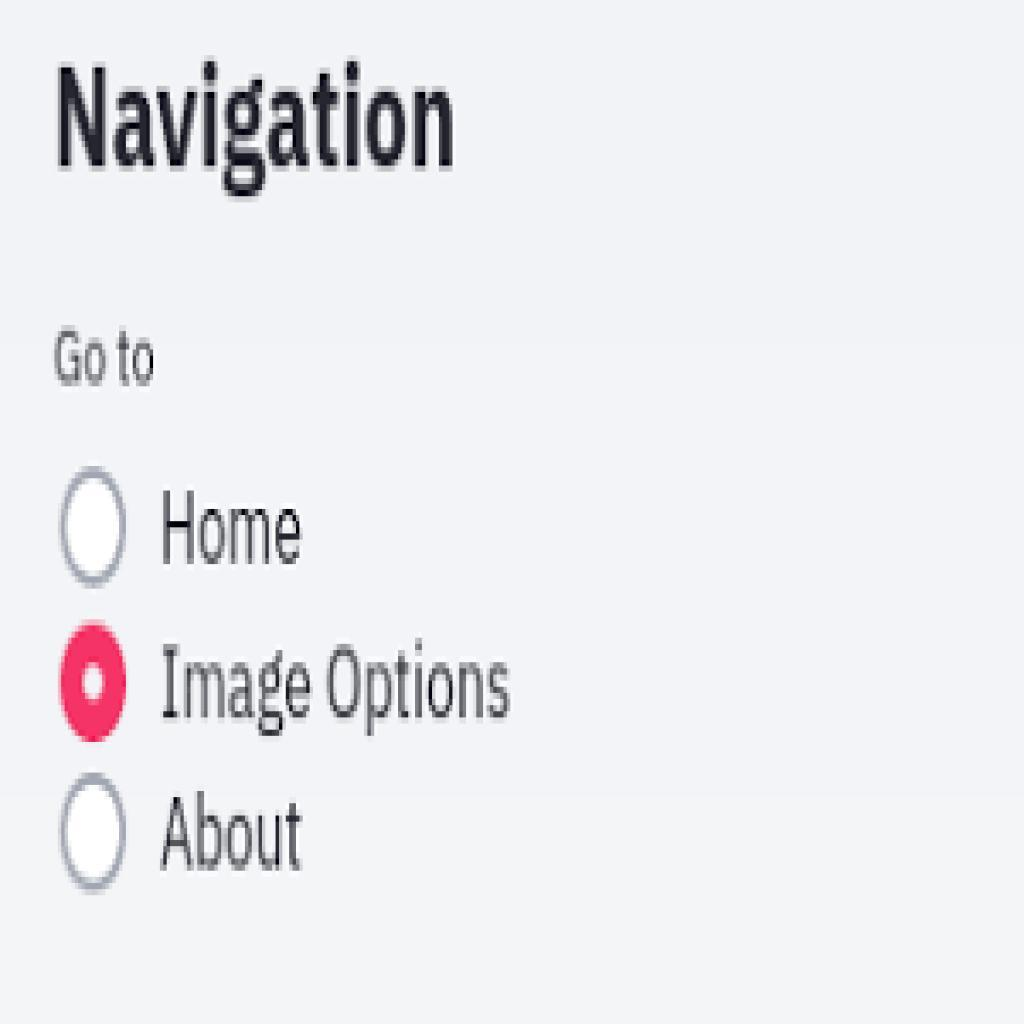label: (53, 50, 462, 192), (157, 640, 515, 735), (154, 482, 305, 572), (162, 789, 309, 881), (54, 317, 161, 397)
radio: (55, 621, 134, 746), (62, 771, 134, 897), (63, 469, 131, 589)
